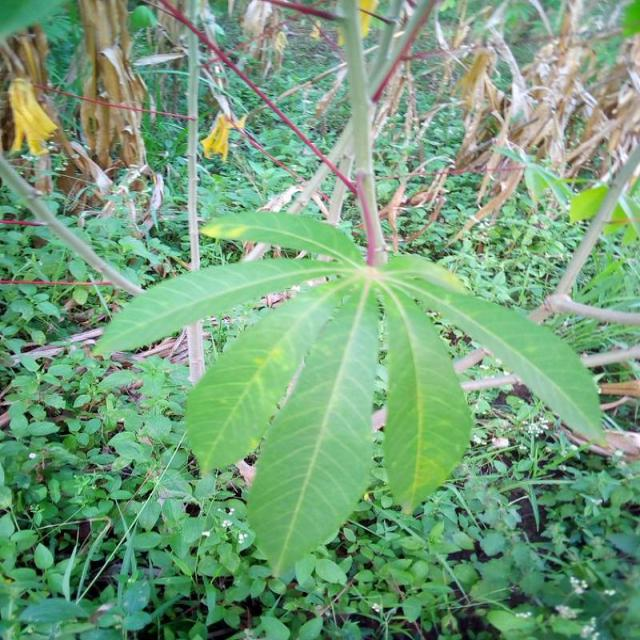cassava leaf: (92, 206, 606, 583), (244, 271, 378, 583), (183, 272, 354, 476), (377, 272, 474, 515)
